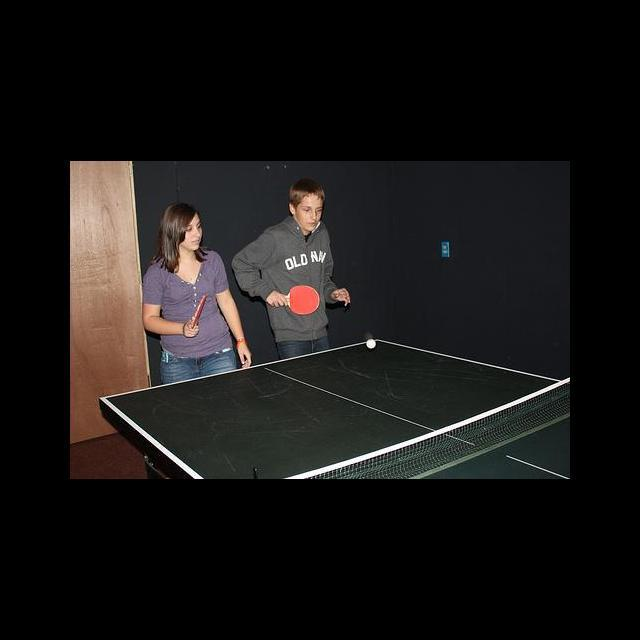ping-pong-ball: (366, 338, 376, 348)
